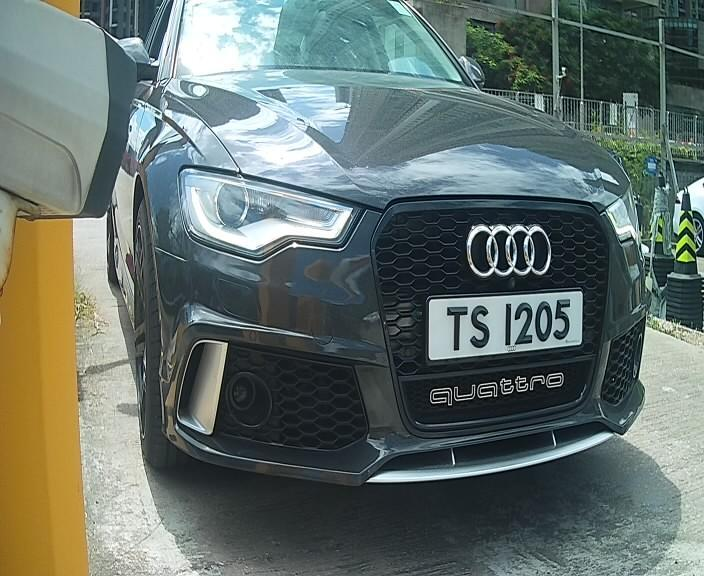privatecar: (67, 13, 679, 535)
